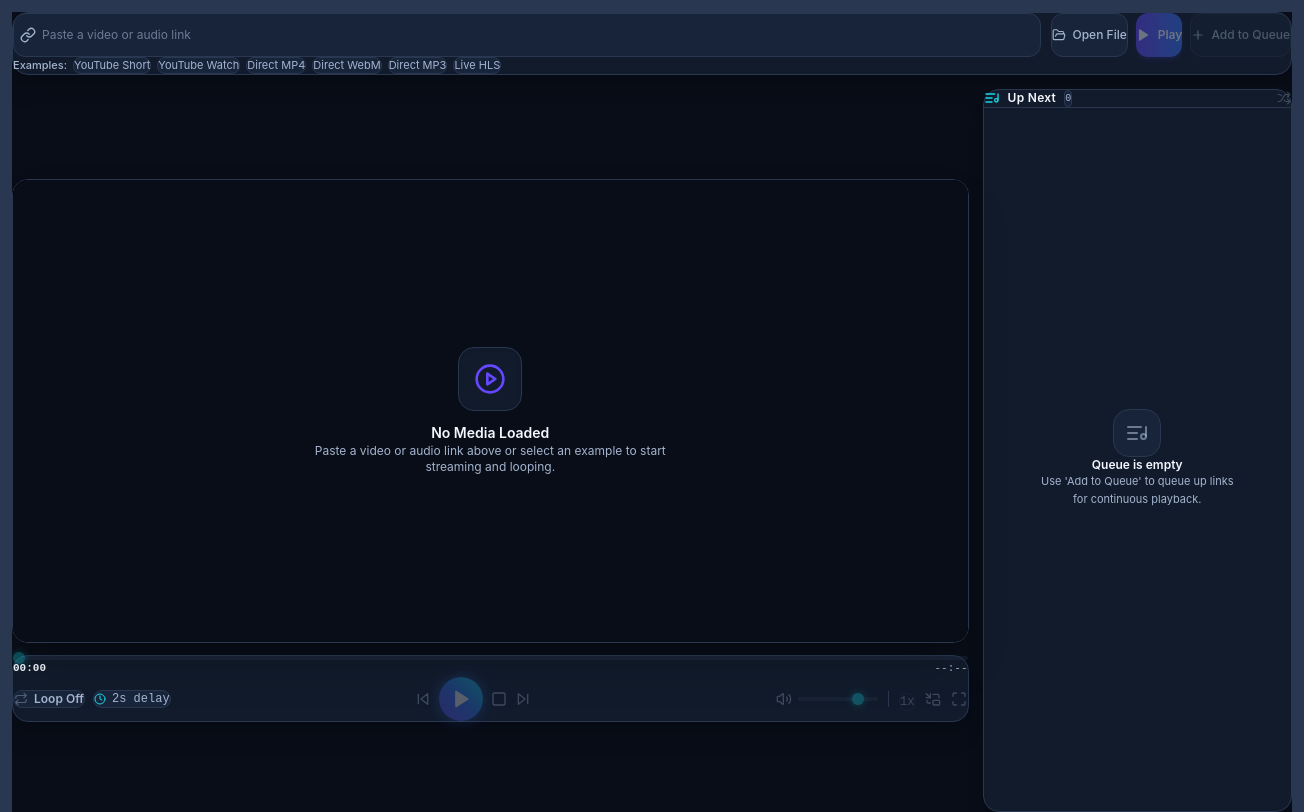
Test case: MainPlayerView & Home Screen Components › detects HLS stream link and displays HLS badge
In the field with placeholder "Paste a video or audio link": (541, 35) [42, 27, 1040, 43], type "https://example.com/live/stream.m3u8"
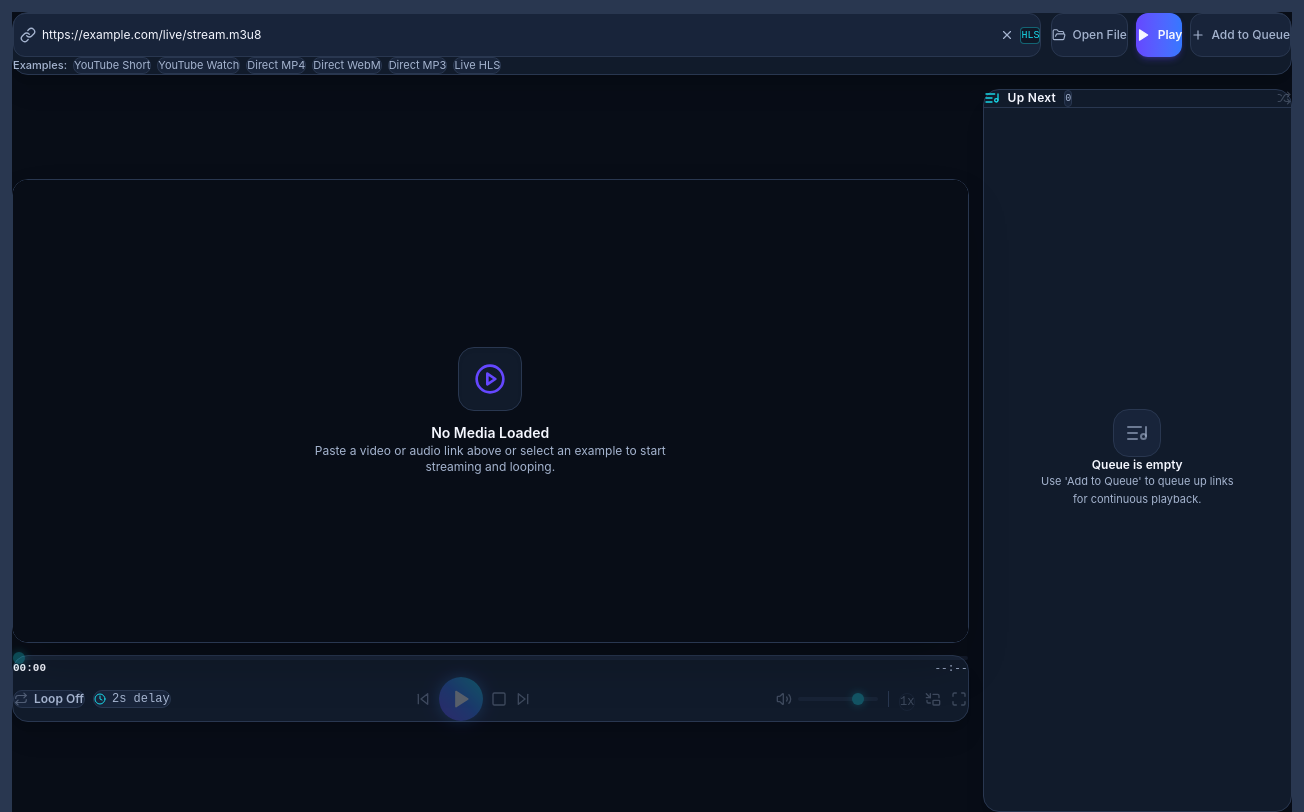
expect the text "hls" is shown: met, box [1020, 26, 1040, 44]
expect the text with class "uppercase" reads "hls": met, box [1022, 30, 1040, 40]
